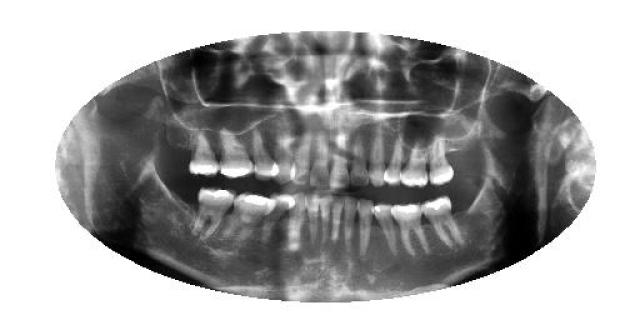Fillings: (220, 192, 276, 238), (391, 201, 434, 259), (262, 192, 302, 254), (421, 194, 464, 250), (194, 188, 236, 242), (220, 128, 254, 178), (400, 136, 429, 189), (188, 130, 220, 178), (252, 128, 280, 182)
